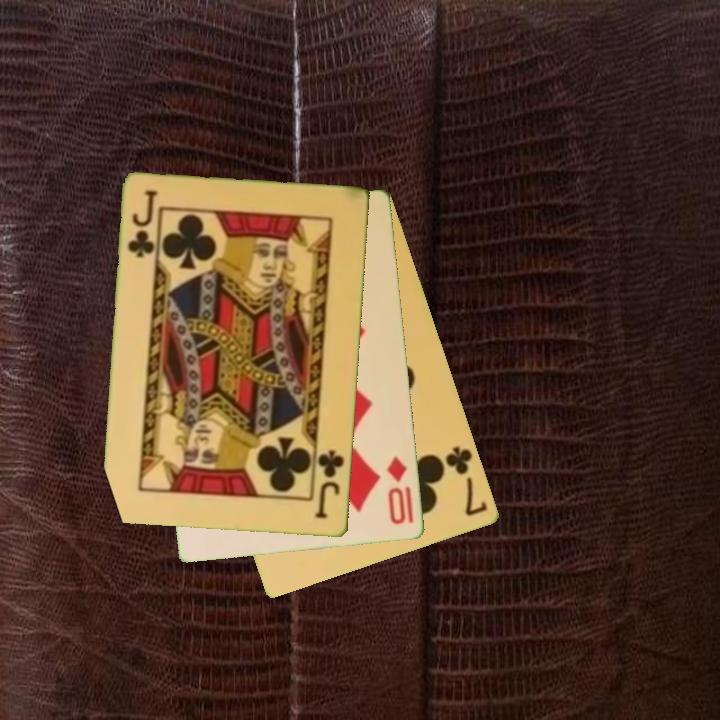10d: (384, 452, 410, 528)
7c: (442, 443, 491, 520)
Jc: (124, 187, 160, 261), (312, 447, 347, 522)
